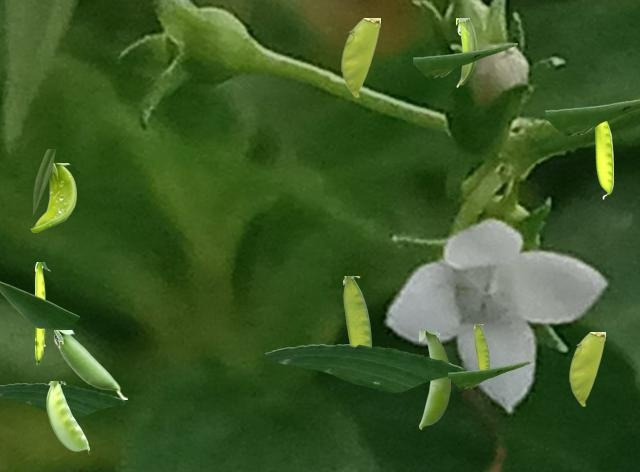pea: (54, 330, 126, 398), (46, 381, 88, 454), (30, 163, 75, 231), (341, 18, 379, 96), (419, 331, 449, 428), (569, 332, 604, 405), (343, 276, 372, 345), (456, 18, 477, 86), (35, 262, 49, 363), (594, 121, 612, 198), (474, 324, 489, 368)
